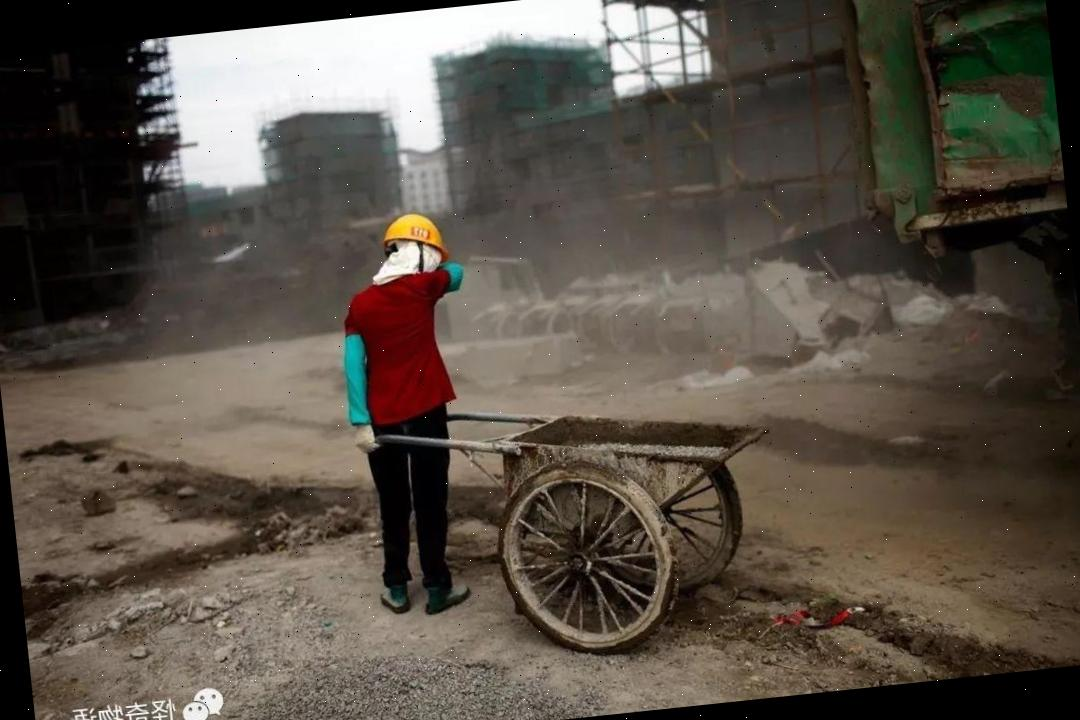helmet: (374, 207, 452, 266)
no_wear: (350, 276, 450, 424)
